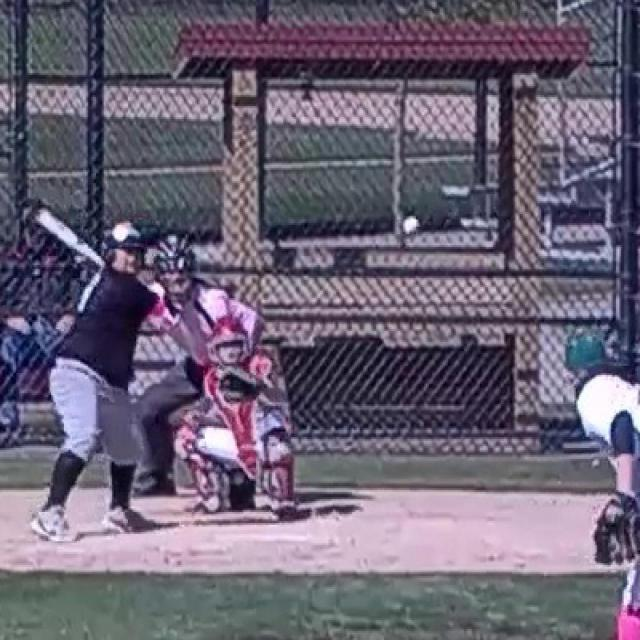baseball: (404, 216, 418, 234)
